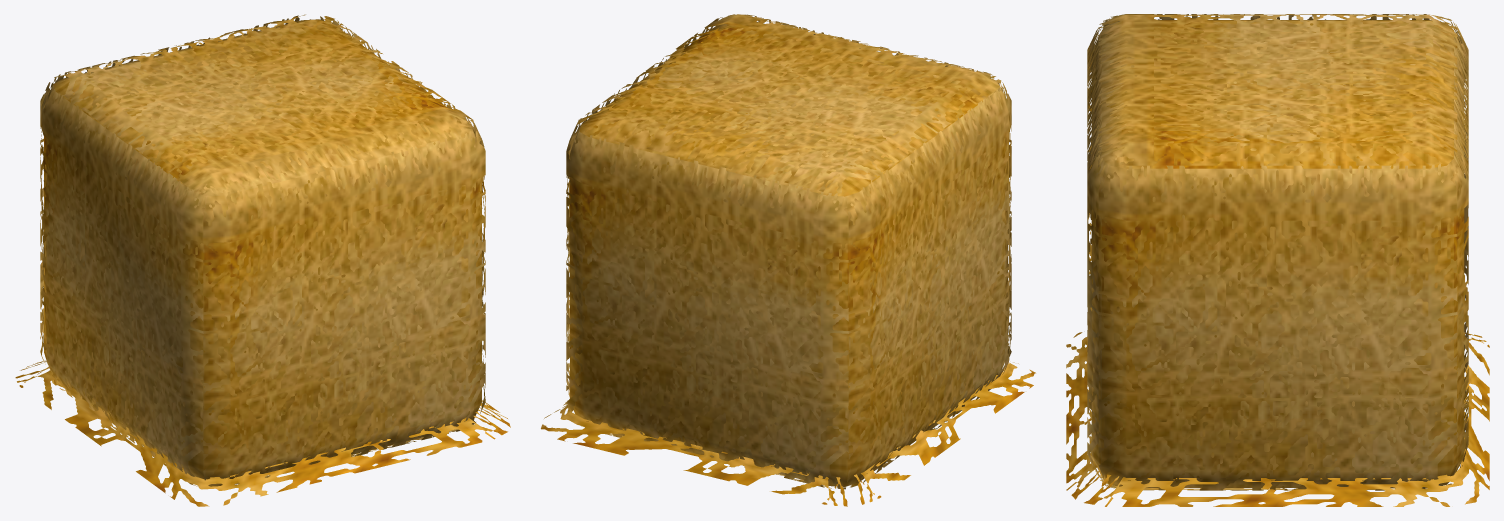
Rendered from HAYBAIL.obj.
3 renders of one model, left to right at view 1: azimuth 30°, elevation 25°; view 2: azimuth 150°, elevation 25°; view 3: azimuth 270°, elevation 25°, orthographic. The views are drawn at different scales.
Visible parts, largest first — view 1: bail_pushblock; view 2: bail_pushblock; view 3: bail_pushblock.
Boxes of the visible parts, left/top/right/bottom form: bail_pushblock: left=15, top=14, right=510, bottom=506; bail_pushblock: left=541, top=14, right=1035, bottom=506; bail_pushblock: left=1066, top=14, right=1489, bottom=506.
Size of the model in its own units: 88.43 by 79.69 by 88.43.
